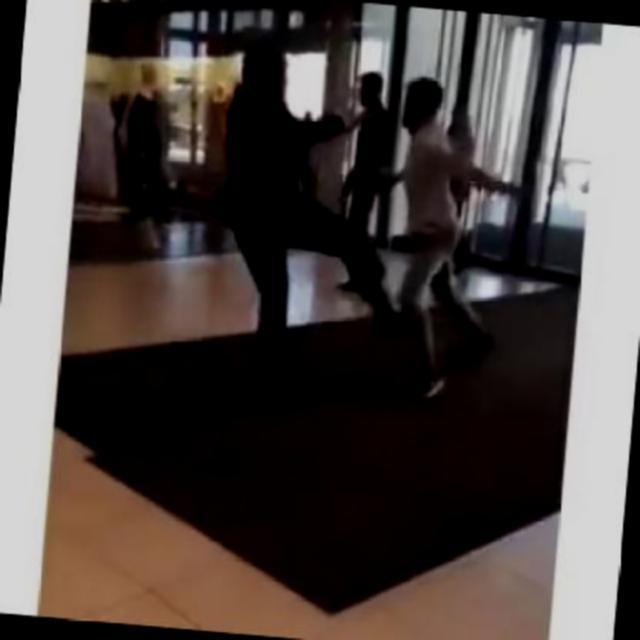fight: (201, 40, 494, 394)
